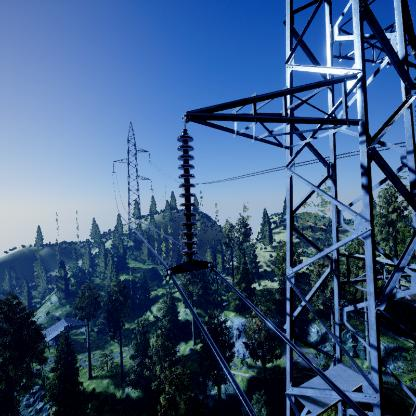insulator: (175, 134, 201, 258)
tower: (109, 115, 157, 238)
